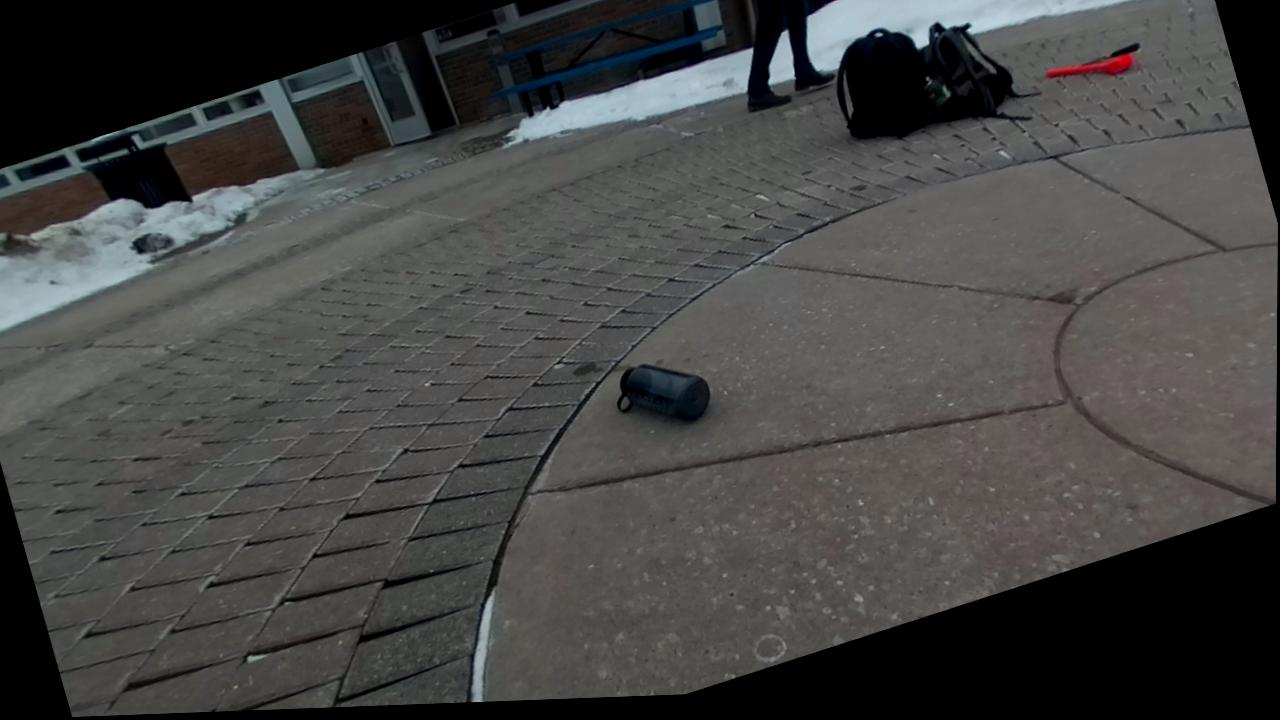bottle: (616, 364, 709, 420)
mallet: (1047, 54, 1133, 77)
